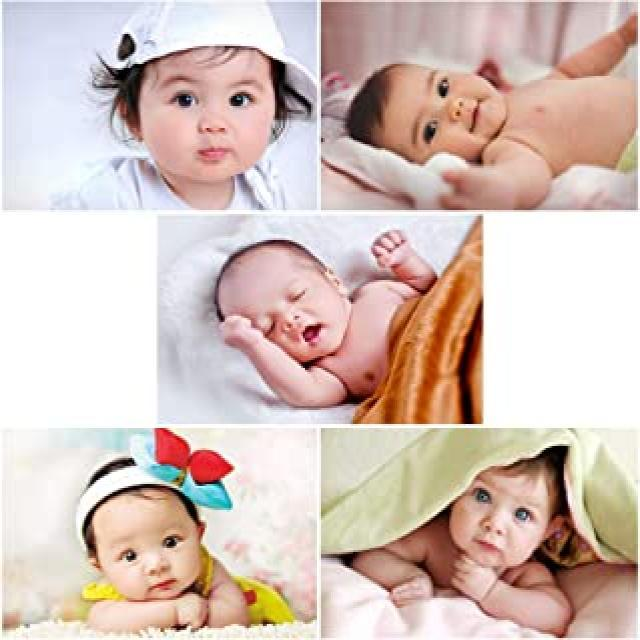non-dog: (49, 3, 320, 212), (341, 24, 640, 207), (68, 424, 271, 640), (355, 445, 577, 637), (214, 229, 440, 409)
